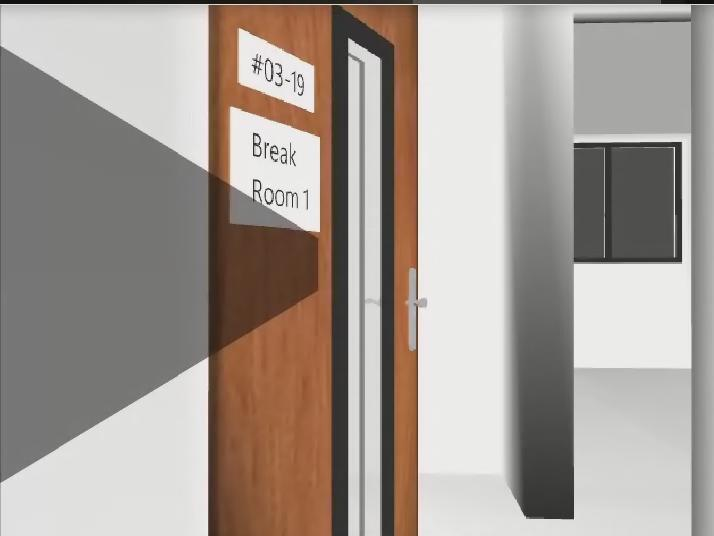door: (209, 6, 427, 536)
